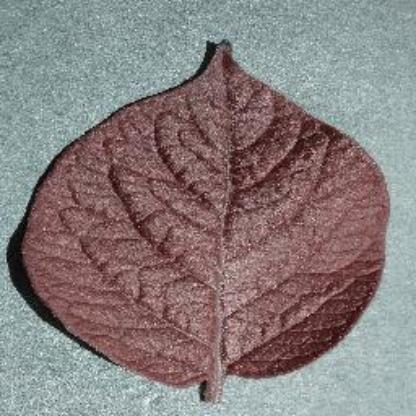Healthy-plant: (13, 38, 393, 404)
